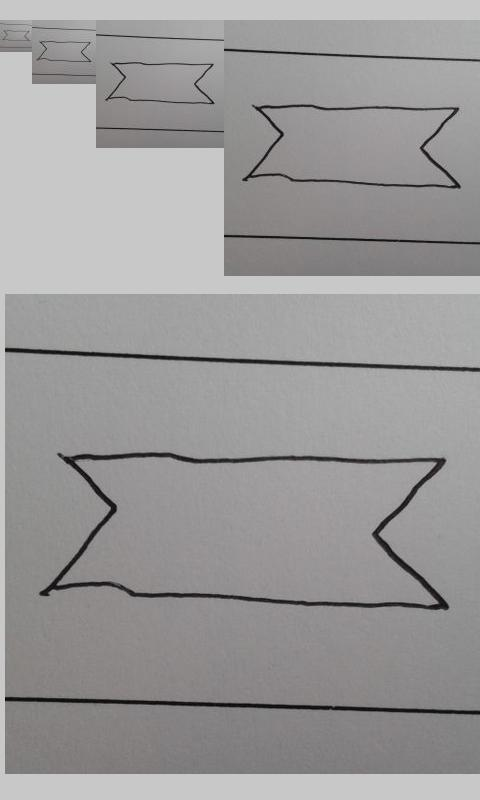edit_text: (41, 448, 450, 611), (241, 103, 463, 189), (106, 61, 214, 105), (37, 40, 92, 63), (2, 29, 30, 42)
